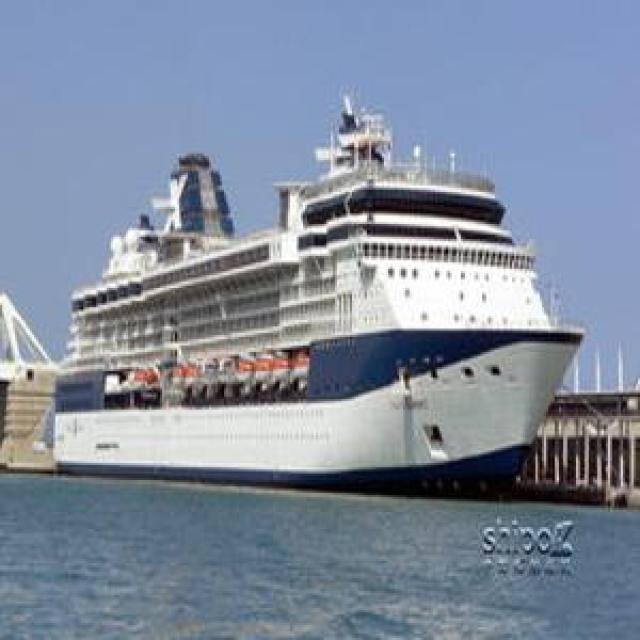passenger ship: (47, 86, 590, 488)
